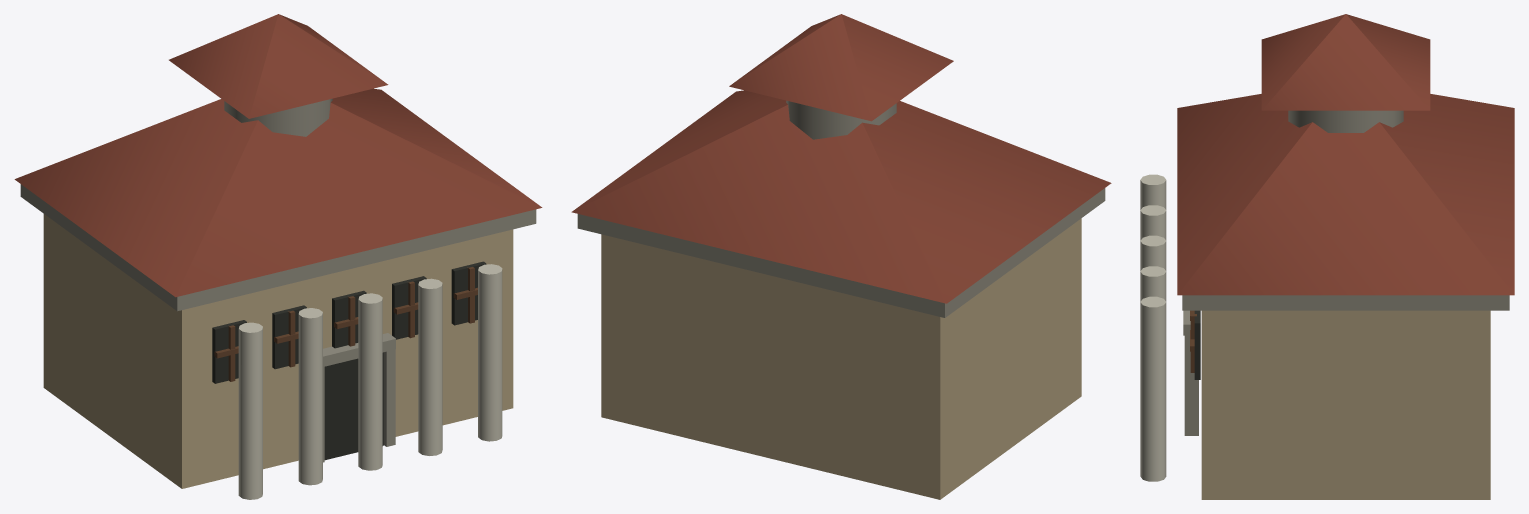
Rendered from custom-cb-university.glb.
The picture shows the model from 3 angles, left to right: view 1: azimuth 30°, elevation 25°; view 2: azimuth 150°, elevation 25°; view 3: azimuth 270°, elevation 25°; orthographic projection. The views are drawn at different scales.
Parts seen in each view (by area): view 1: custom-cb-university; view 2: custom-cb-university; view 3: custom-cb-university.
Part boxes in pixels (x1,y1,x2,y2): custom-cb-university: (14, 14, 542, 499); custom-cb-university: (571, 14, 1111, 499); custom-cb-university: (1140, 14, 1514, 499).
Size of the model in its own units: 1 by 0.9998 by 0.8445.
